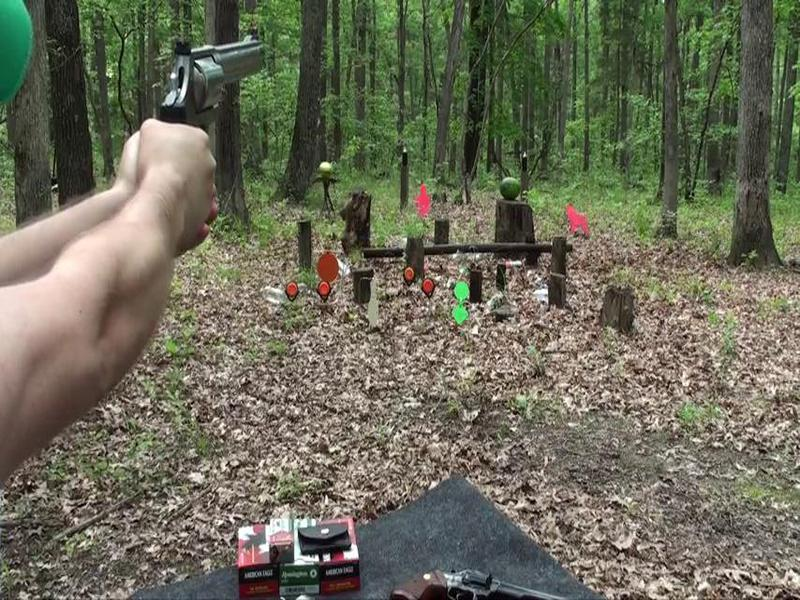Revolver: (144, 20, 284, 152)
